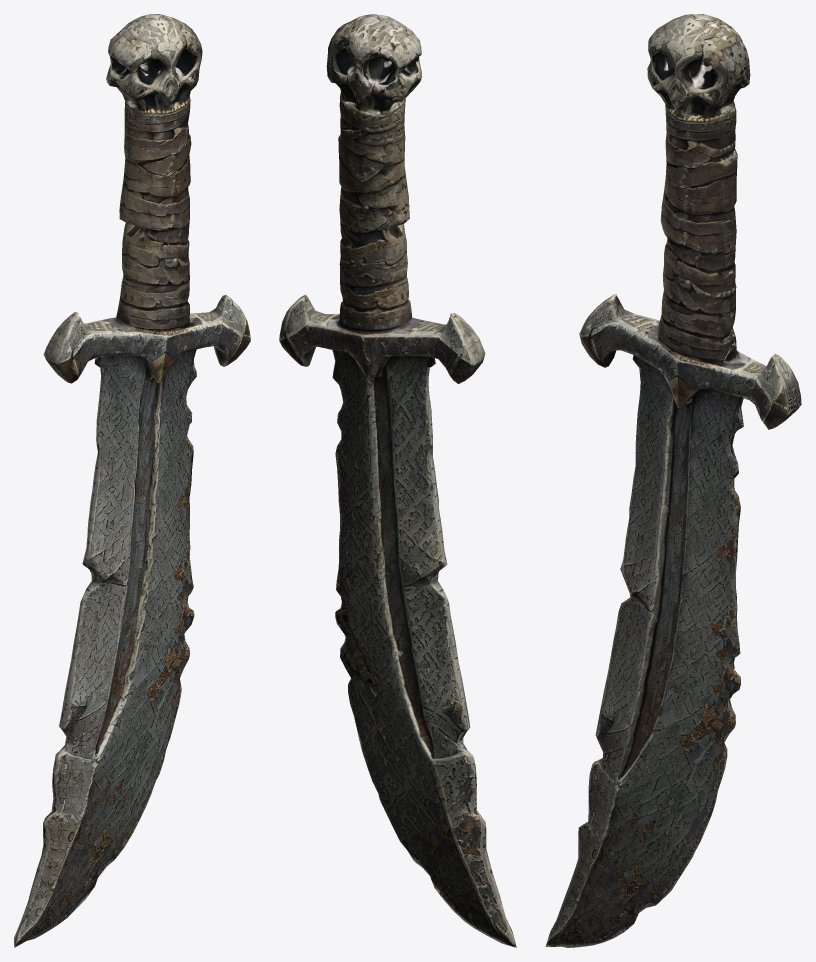
File: Barbarian Skull Sword.opt.glb
3 renders of one model, left to right at view 1: azimuth 30°, elevation 25°; view 2: azimuth 150°, elevation 25°; view 3: azimuth 330°, elevation 25°, orthographic. The views are drawn at different scales.
Parts seen in each view (by area): view 1: texture_mapping; view 2: texture_mapping; view 3: texture_mapping.
Boxes of the visible parts, <box> form: texture_mapping: <box>14,14,250,947</box>; texture_mapping: <box>279,14,516,947</box>; texture_mapping: <box>545,14,801,947</box>.
Bounding box in the file's own units: 0.2702 × 0.9992 × 0.0778.
1 material, 1 textured.
